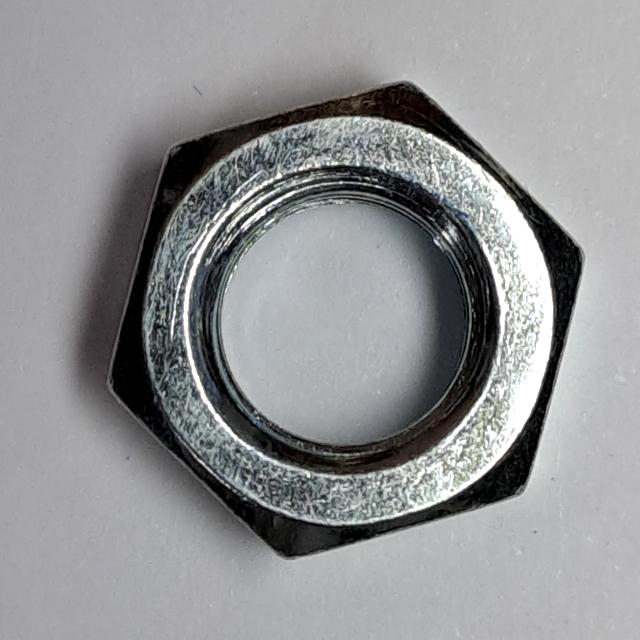Excellent: (89, 68, 595, 570)
